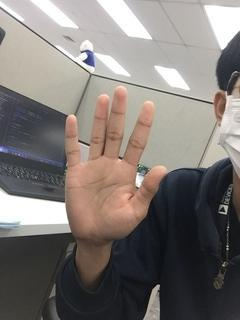hand: (62, 86, 169, 240)
